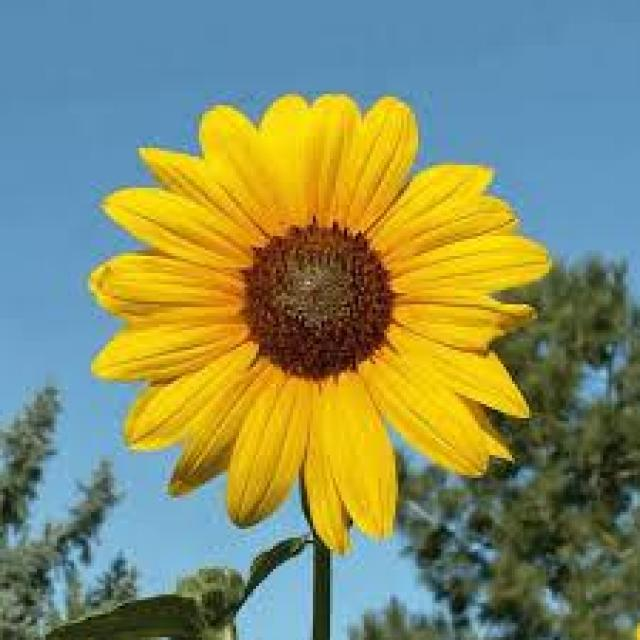organic waste: (100, 88, 546, 521)
